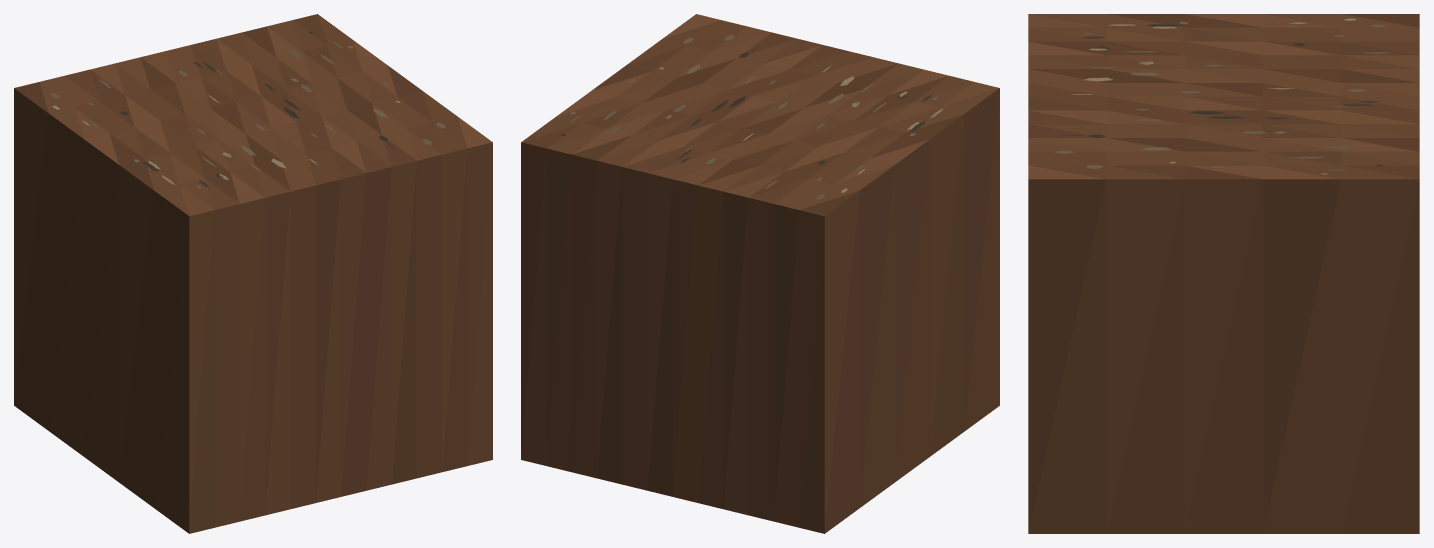
Rendered from terrain-slide-9d653c.glb.
3 views of the same model, side by side, from view 1: azimuth 30°, elevation 25°; view 2: azimuth 150°, elevation 25°; view 3: azimuth 270°, elevation 25° (orthographic). The views are drawn at different scales.
Visible parts, largest first — view 1: terrain-slide-9d653c; view 2: terrain-slide-9d653c; view 3: terrain-slide-9d653c.
Boxes of the visible parts, x1,y1,x2,y2 form: terrain-slide-9d653c: (14, 14, 492, 533); terrain-slide-9d653c: (521, 14, 999, 533); terrain-slide-9d653c: (1028, 14, 1419, 533).
Size of the model in its own units: 1 by 1 by 1.
